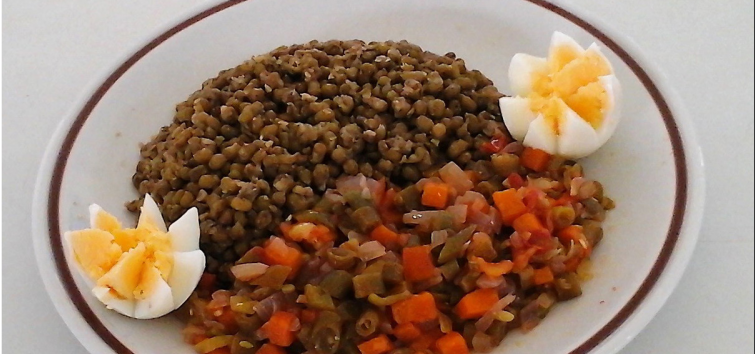legumes: (306, 208, 567, 308)
oeuf: (500, 37, 624, 155)
sodja: (144, 51, 475, 155)
